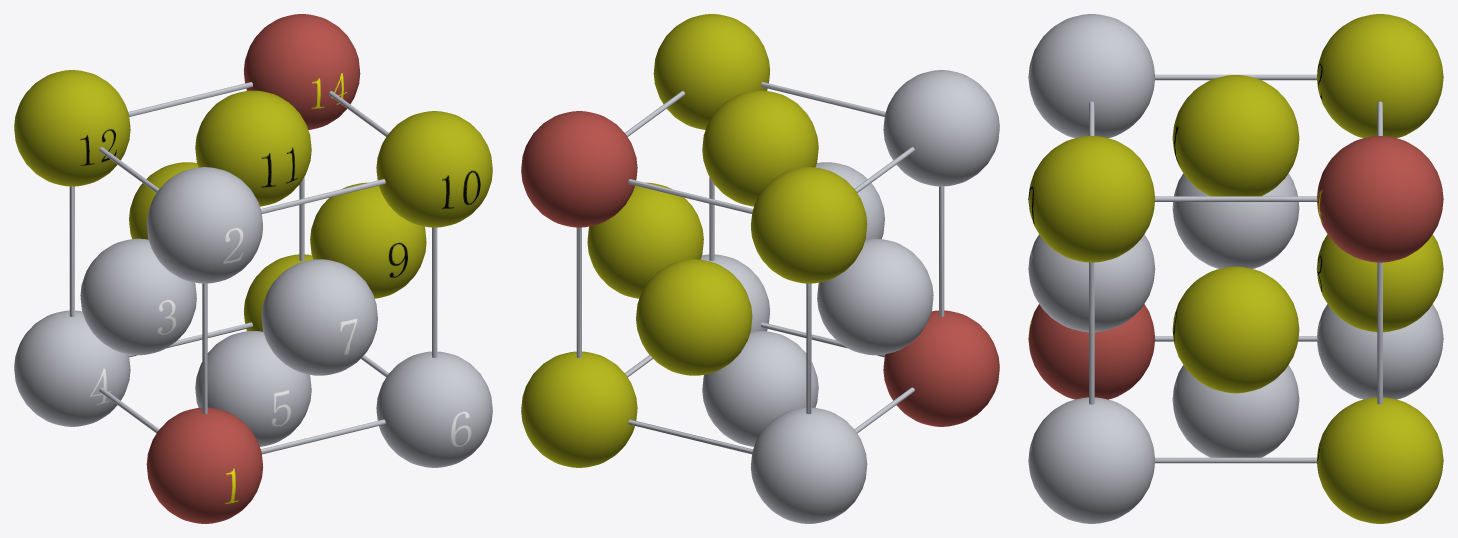
The model's file is lingAS.FBX.
The picture shows the model from 3 angles, left to right: view 1: azimuth 30°, elevation 25°; view 2: azimuth 150°, elevation 25°; view 3: azimuth 270°, elevation 25°; orthographic projection. The views are drawn at different scales.
Parts seen in each view (by area): view 1: Box006, Box008, Box009, Box001, Box003, Box011, Box007, Box002, Box010, Box014, Box012, Box004 (+3 smaller); view 2: Box013, Box011, Box014, Box002, Box005, Box008, Box007, Box001, Box010, Box009, Box012, Box004 (+3 smaller); view 3: Box012, Box009, Box014, Box003, Box005, Box010, Box008, Box011, Box004, Box006, Box013, Box001 (+3 smaller).
Part boxes in pixels (x1=…): Box006: x1=261, y1=259, x2=377, y2=375; Box008: x1=146, y1=167, x2=262, y2=283; Box009: x1=376, y1=111, x2=492, y2=227; Box001: x1=146, y1=407, x2=263, y2=523; Box003: x1=376, y1=351, x2=492, y2=467; Box011: x1=14, y1=70, x2=130, y2=186; Box007: x1=80, y1=238, x2=196, y2=355; Box002: x1=14, y1=310, x2=130, y2=426; Box010: x1=195, y1=90, x2=311, y2=206; Box014: x1=243, y1=14, x2=360, y2=129; Box012: x1=310, y1=182, x2=426, y2=298; Box004: x1=195, y1=331, x2=311, y2=446; Box013: x1=636, y1=259, x2=752, y2=375; Box011: x1=751, y1=167, x2=867, y2=283; Box014: x1=521, y1=111, x2=637, y2=227; Box002: x1=750, y1=407, x2=867, y2=523; Box005: x1=521, y1=351, x2=637, y2=467; Box008: x1=883, y1=70, x2=999, y2=186; Box007: x1=817, y1=238, x2=933, y2=355; Box001: x1=883, y1=310, x2=999, y2=426; Box010: x1=702, y1=90, x2=818, y2=206; Box009: x1=653, y1=14, x2=770, y2=129; Box012: x1=587, y1=182, x2=703, y2=298; Box004: x1=702, y1=331, x2=818, y2=446; Box012: x1=1172, y1=266, x2=1299, y2=393; Box009: x1=1028, y1=136, x2=1154, y2=262; Box014: x1=1317, y1=136, x2=1443, y2=262; Box003: x1=1028, y1=397, x2=1154, y2=523; Box005: x1=1317, y1=397, x2=1443, y2=523; Box010: x1=1172, y1=75, x2=1299, y2=196; Box008: x1=1028, y1=14, x2=1154, y2=138; Box011: x1=1317, y1=14, x2=1443, y2=138; Box004: x1=1172, y1=365, x2=1299, y2=457; Box006: x1=1028, y1=234, x2=1155, y2=332; Box013: x1=1316, y1=234, x2=1443, y2=332; Box001: x1=1028, y1=304, x2=1154, y2=399.
Size of the model in its own units: 72 by 72 by 72.
